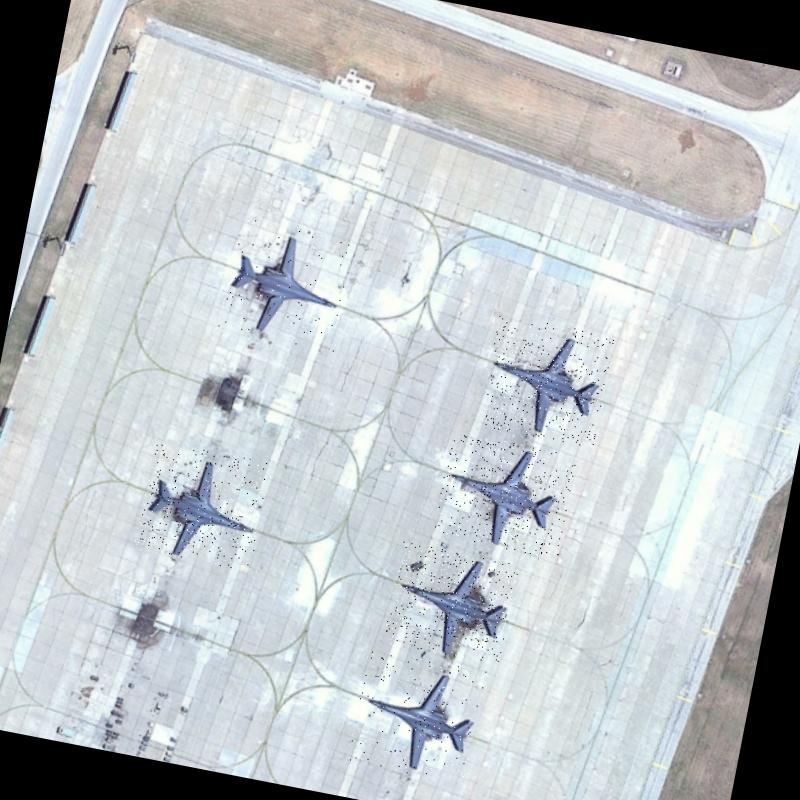A10: (347, 648, 486, 785), (217, 217, 357, 353), (432, 431, 578, 558), (478, 314, 614, 448), (133, 439, 270, 572), (382, 541, 518, 665)
